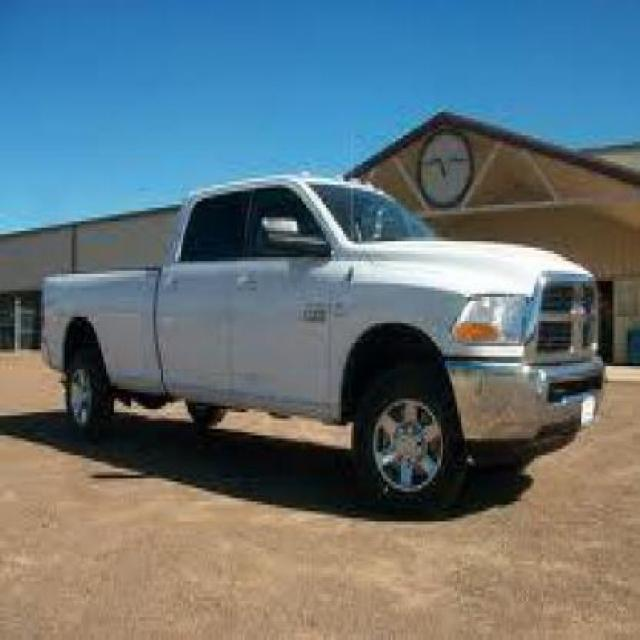vehicle: (40, 160, 620, 509)
